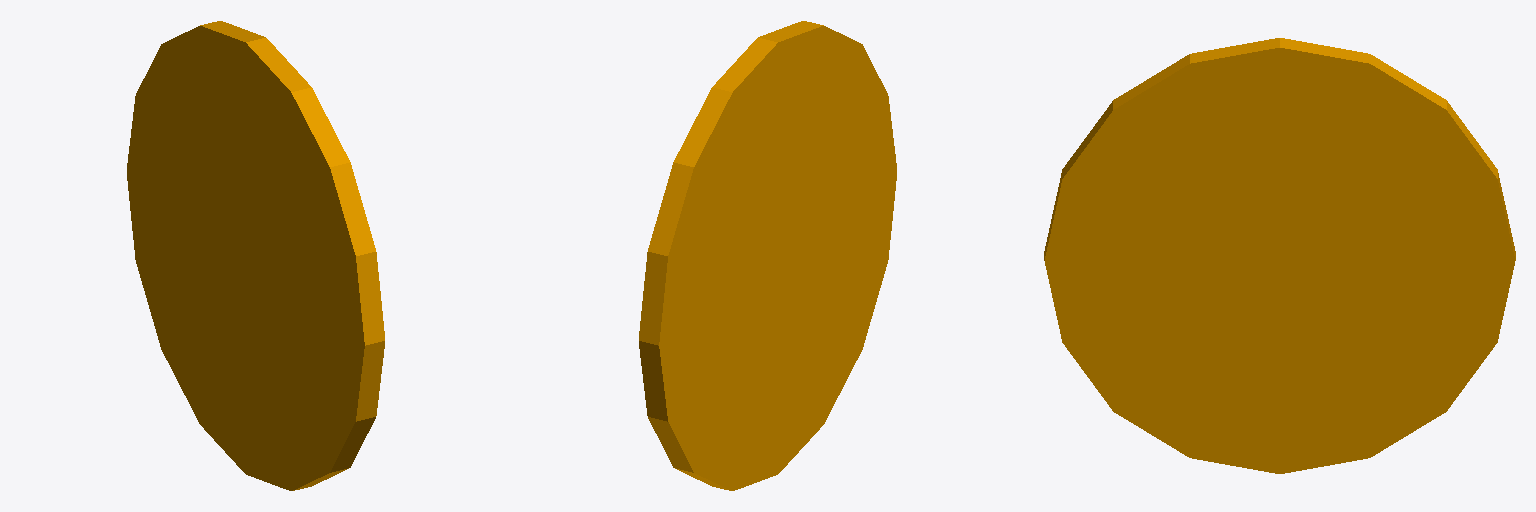
URDF robot description (circle):
<?xml version="1.0" ?>
<robot name="circle">
  <link name="base_link">
    <visual>
      <geometry>
        <mesh filename="circle.obj" scale="0.07 0.07 0.07"/>
      </geometry>
    </visual>
    <collision>
      <geometry>
        <box size="0.007000000000000001 0.14 0.14"/>
      </geometry>
    </collision>
    <inertial>
      <mass value="1.0"/>
      <inertia ixx="0.0032666666666666673" ixy="0.0" ixz="0.0" iyy="0.001637416666666667" iyz="0.0" izz="0.001637416666666667"/>
    </inertial>
  </link>
  <!--
    <link name="test">
        <visual>
            <geometry>
                <box size="${x} ${y} ${z}"/>
            </geometry>
            <material name="Miau">
                <color rgba="1.0 0.0 0.0 1"/>
            </material>
        </visual>
    </link>
    <joint name="base_link_to_test" type="fixed">
        <parent link="base_link"/>
        <child link="test"/>
    </joint>
    -->
</robot>

--- Render facts (derived) ---
The picture shows the robot from 3 angles, left to right: view 1: azimuth 30°, elevation 25°; view 2: azimuth 150°, elevation 25°; view 3: azimuth 270°, elevation 25°; orthographic projection.
Robot: circle — 1 links, 0 joints (none); root link base_link; default pose: every joint at zero.
Visible links, largest first — view 1: base_link; view 2: base_link; view 3: base_link.
Boxes of the visible links, x1,y1,x2,y2 form: base_link: (127, 21, 384, 490); base_link: (639, 21, 896, 490); base_link: (1044, 38, 1515, 473).
Size in the robot's own frame: 0.007 by 0.14 by 0.14 metres.
Meshes: 1 distinct files referenced, 1 mesh visuals loaded (1 OBJ).